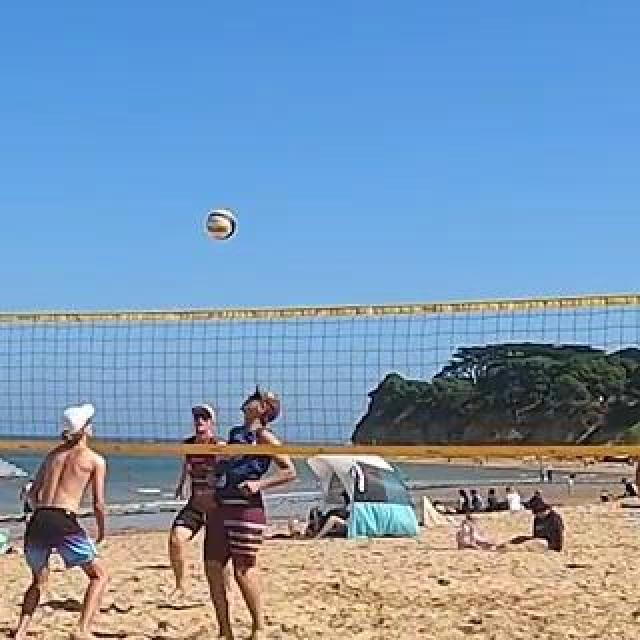volleyball: (208, 211, 238, 241)
